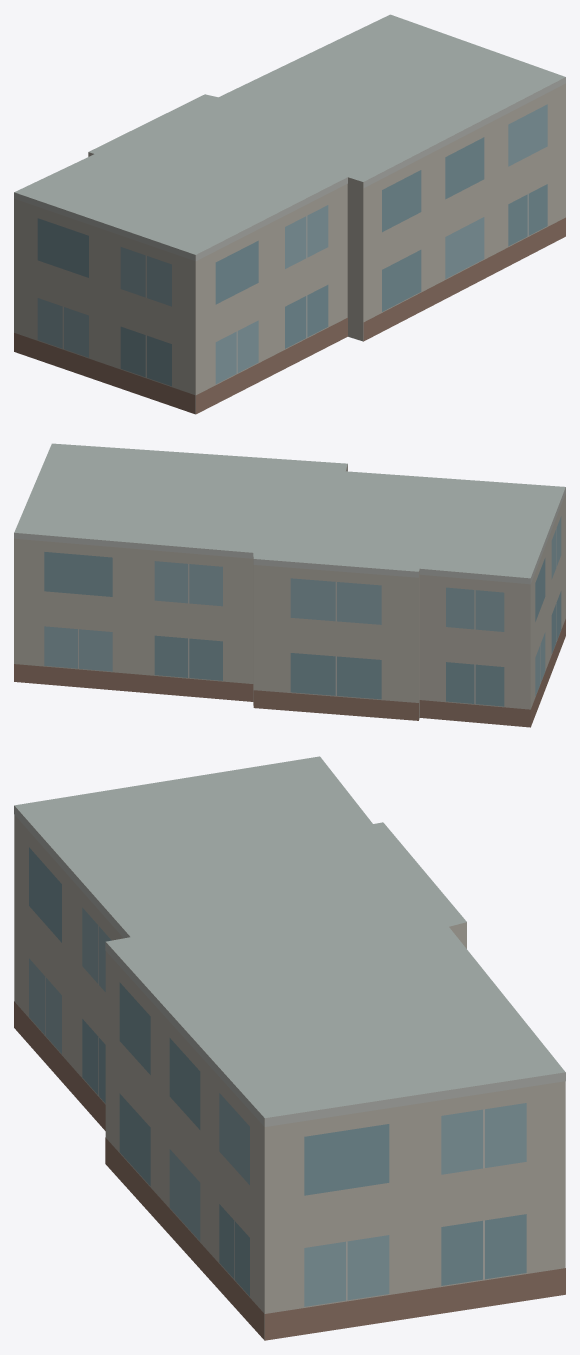
File: survey-upis-33034508.glb
The picture shows the model from 3 angles, top to bottom: view 1: azimuth 30°, elevation 25°; view 2: azimuth 150°, elevation 25°; view 3: azimuth 270°, elevation 25°; orthographic projection. The views are drawn at different scales.
Visible parts, largest first — view 1: survey-upis-33034508.tmp; view 2: survey-upis-33034508.tmp; view 3: survey-upis-33034508.tmp.
Part boxes in pixels (left/top/right/bottom): survey-upis-33034508.tmp: left=14, top=14, right=565, bottom=414; survey-upis-33034508.tmp: left=14, top=443, right=565, bottom=727; survey-upis-33034508.tmp: left=14, top=756, right=565, bottom=1340.
Size of the model in its own units: 21.3 by 6.1 by 13.73.
